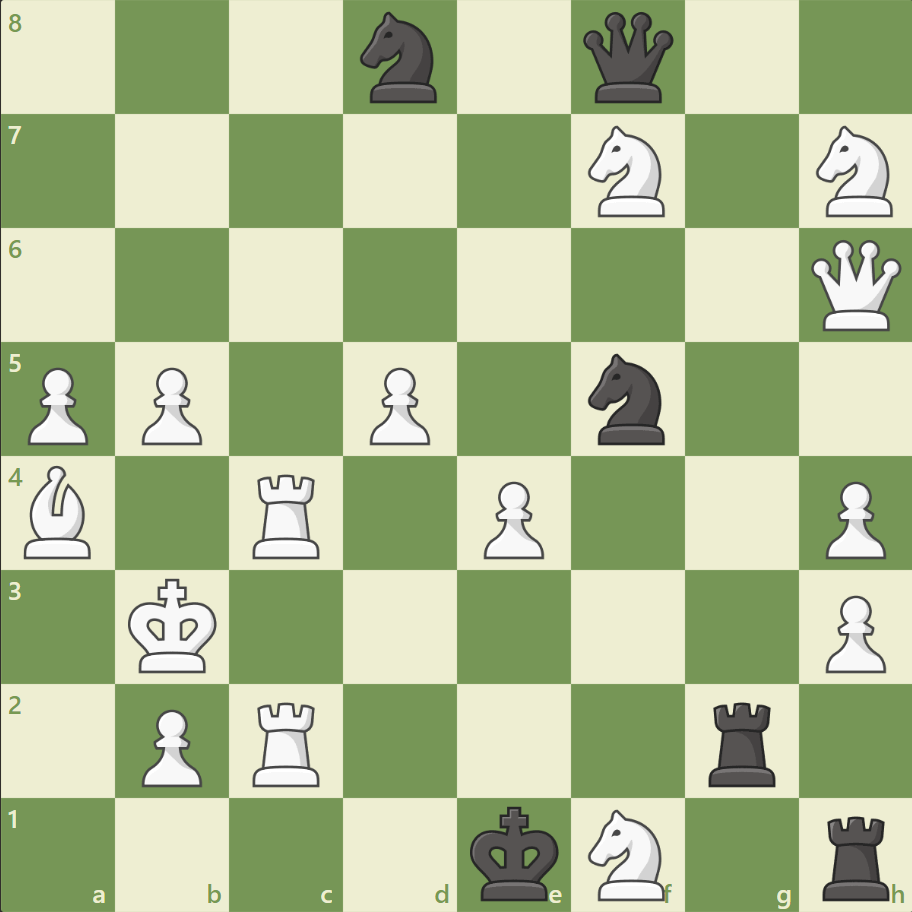B: (17, 460, 101, 563)
K: (124, 571, 224, 679)
N: (579, 121, 676, 223), (806, 121, 903, 223), (579, 802, 676, 904)
P: (20, 359, 95, 450), (133, 359, 208, 450), (474, 473, 549, 564), (133, 700, 208, 791), (361, 359, 435, 450), (815, 473, 889, 564), (815, 586, 889, 677)
Q: (805, 236, 904, 335)
R: (246, 466, 329, 563), (246, 693, 329, 790)
k: (465, 798, 565, 906)
n: (351, 7, 449, 110), (579, 348, 676, 450)
q: (578, 9, 677, 108)
r: (814, 806, 897, 904), (700, 693, 783, 790)
